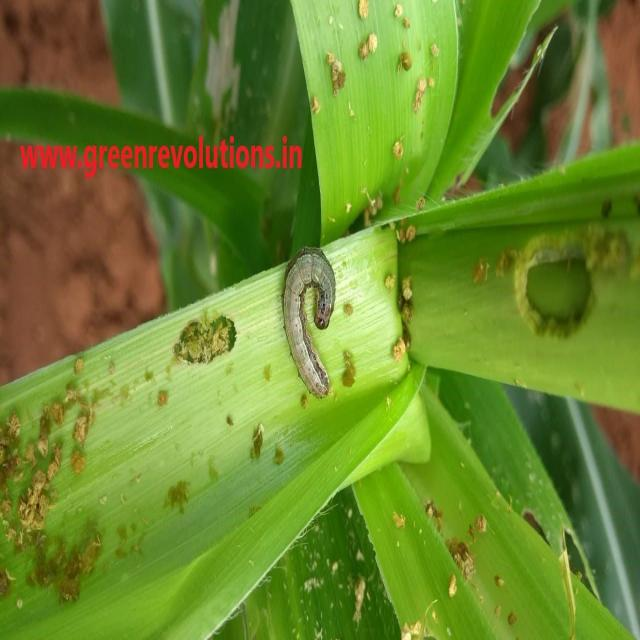Fall-armyworm: (273, 227, 349, 411)
